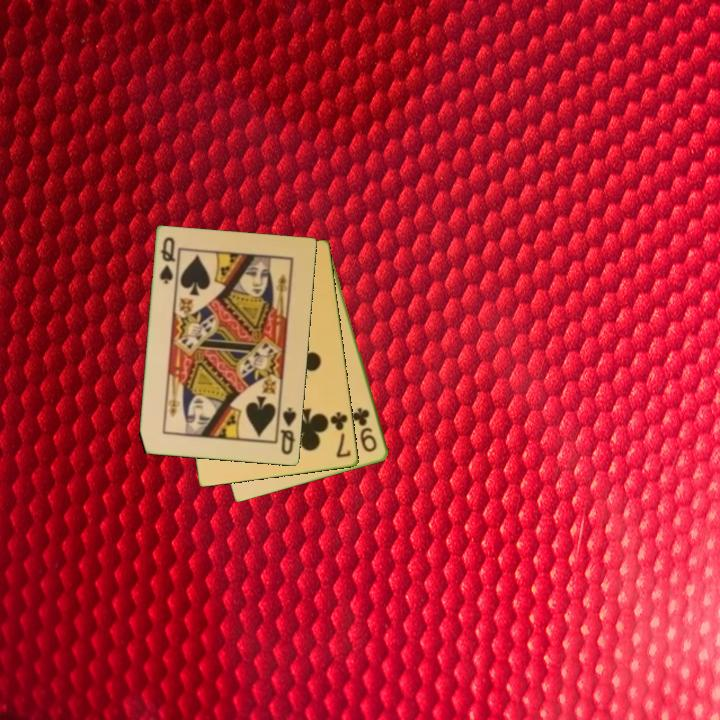7c: (327, 408, 354, 461)
9c: (351, 404, 380, 455)
Qs: (277, 404, 299, 458), (156, 234, 178, 287)
